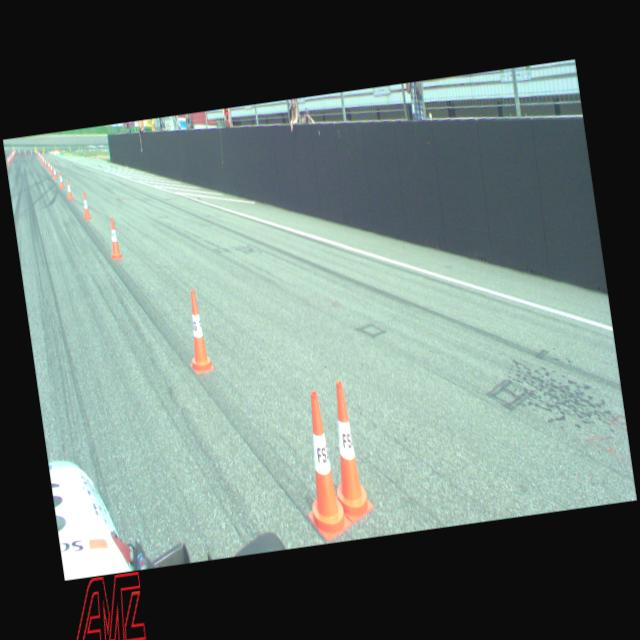orange_cone: (291, 388, 353, 544), (322, 380, 376, 526), (180, 288, 214, 374), (106, 218, 122, 260), (80, 192, 92, 220), (65, 178, 73, 200), (58, 170, 64, 188), (52, 166, 58, 178), (47, 159, 51, 171), (44, 156, 48, 168), (49, 162, 53, 174), (6, 156, 10, 164), (8, 153, 11, 162), (18, 147, 20, 154), (30, 148, 32, 155), (24, 148, 26, 154), (14, 148, 16, 154)
